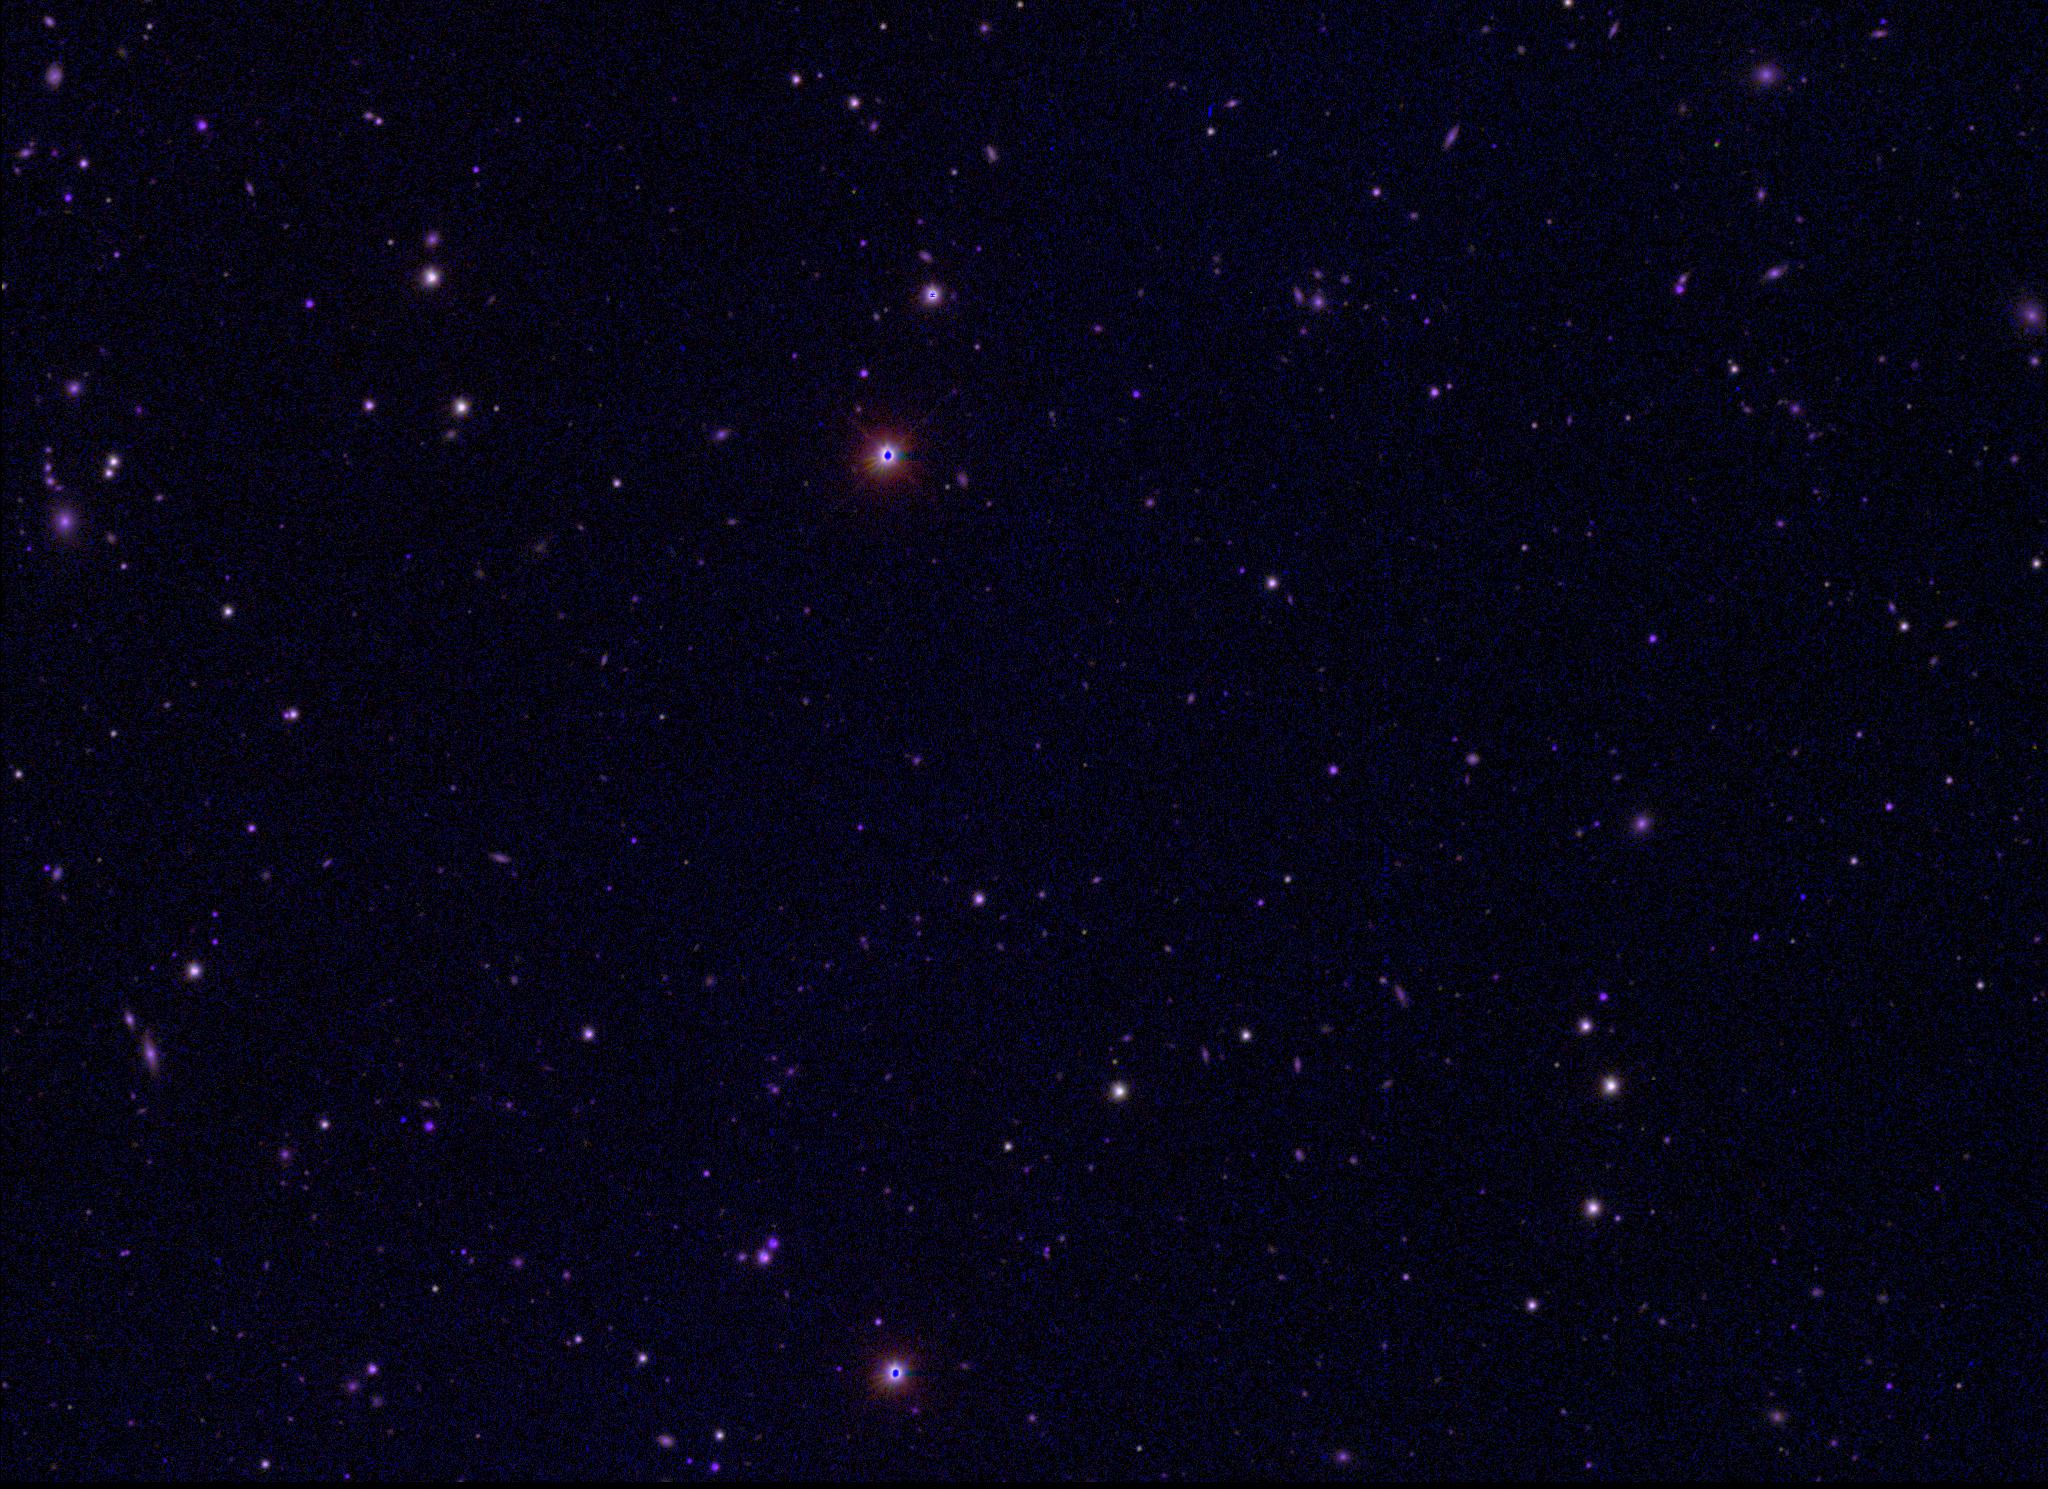L: (396, 1114, 410, 1126)
